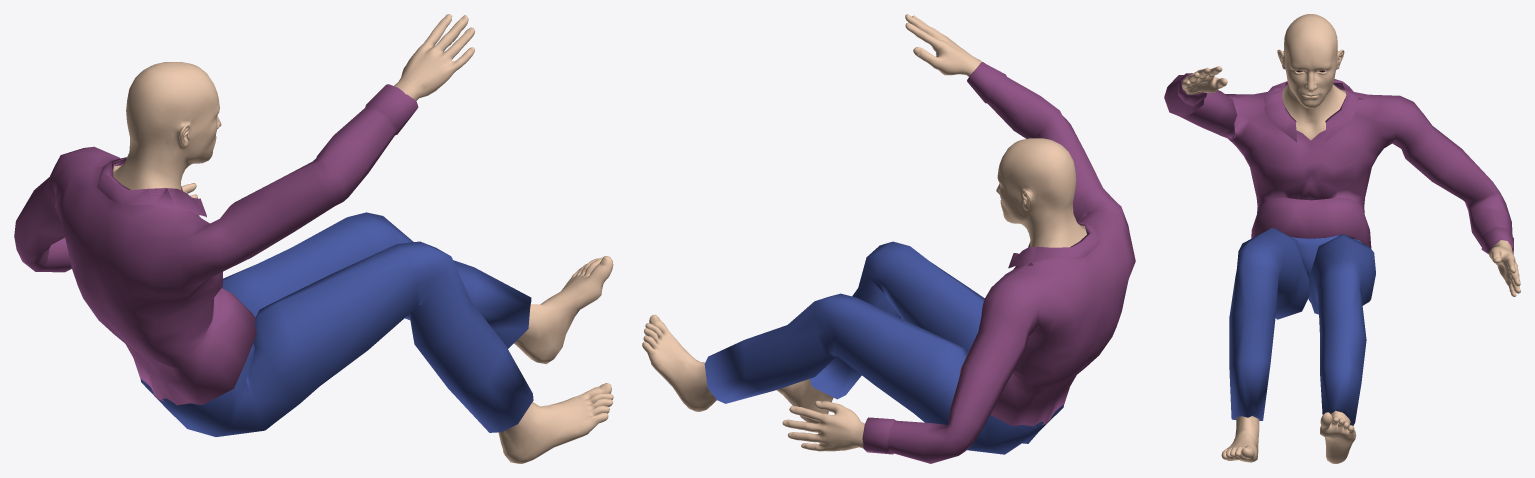
File: float_purple.dae
3 views of the same model, side by side, from view 1: azimuth 30°, elevation 25°; view 2: azimuth 150°, elevation 25°; view 3: azimuth 270°, elevation 25° (orthographic). The views are drawn at different scales.
Parts seen in each view (by area): view 1: human; view 2: human; view 3: human.
Boxes of the visible parts, left/top/right/bottom form: human: left=14, top=14, right=613, bottom=463; human: left=642, top=14, right=1135, bottom=463; human: left=1164, top=14, right=1520, bottom=463.
Size of the model in its own units: 1.21 by 0.9467 by 1.07.
